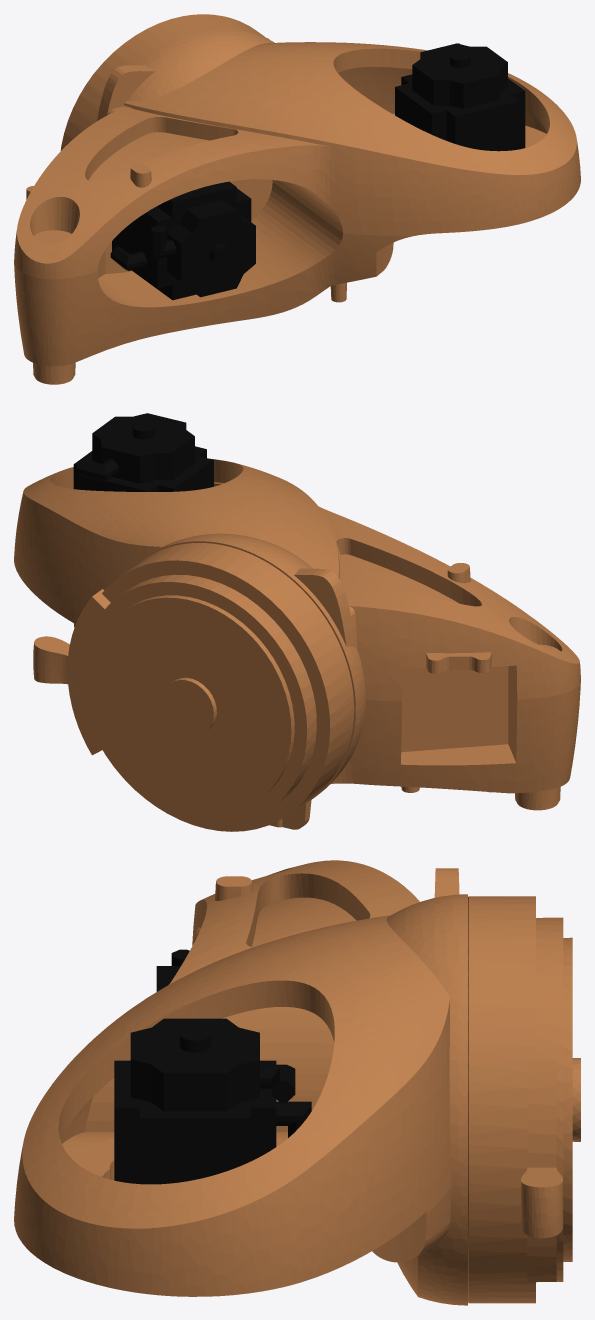
3 views of the same model, one above another, from view 1: azimuth 30°, elevation 25°; view 2: azimuth 150°, elevation 25°; view 3: azimuth 270°, elevation 25° (orthographic). The views are drawn at different scales.
Visible parts, largest first — view 1: /Link_1/Link_1-mesh/0, /Link_1_Motor1/Link_1_Motor1-mesh/0, /Link_1_Motor2/Link_1_Motor2-mesh/0; view 2: /Link_1/Link_1-mesh/0, /Link_1_Motor2/Link_1_Motor2-mesh/0; view 3: /Link_1/Link_1-mesh/0, /Link_1_Motor2/Link_1_Motor2-mesh/0, /Link_1_Motor1/Link_1_Motor1-mesh/0.
Boxes of the visible parts, x1,y1,x2,y2 form: /Link_1/Link_1-mesh/0: (14,14,580,384); /Link_1_Motor1/Link_1_Motor1-mesh/0: (110,181,255,300); /Link_1_Motor2/Link_1_Motor2-mesh/0: (395,43,525,151); /Link_1/Link_1-mesh/0: (14,458,580,831); /Link_1_Motor2/Link_1_Motor2-mesh/0: (73,413,213,491); /Link_1/Link_1-mesh/0: (14,860,580,1305); /Link_1_Motor2/Link_1_Motor2-mesh/0: (114,1018,311,1184); /Link_1_Motor1/Link_1_Motor1-mesh/0: (156,949,189,991).
Size of the model in its own units: 1.08 by 0.5035 by 0.6752.
